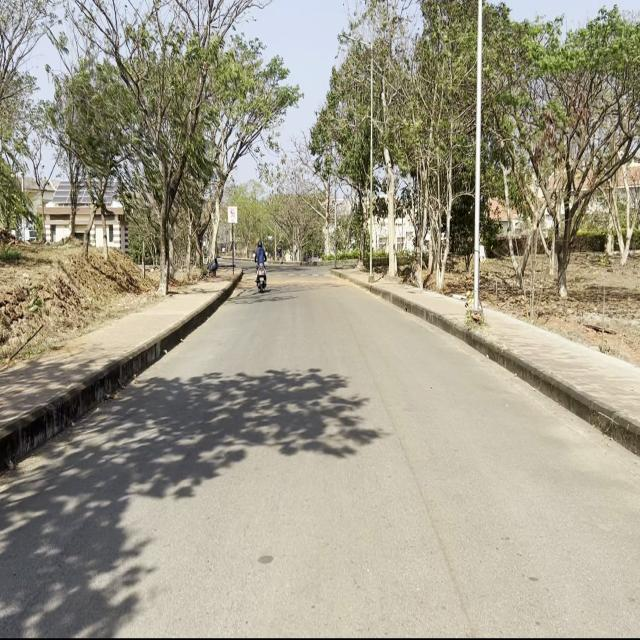Object: (253, 237, 269, 297)
Road: (3, 264, 637, 634)
